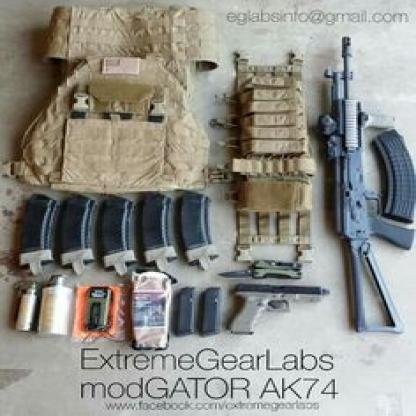Grenade: (40, 270, 76, 338), (11, 278, 38, 334)
Gun: (316, 35, 416, 335)
Pistol: (227, 281, 332, 338)
